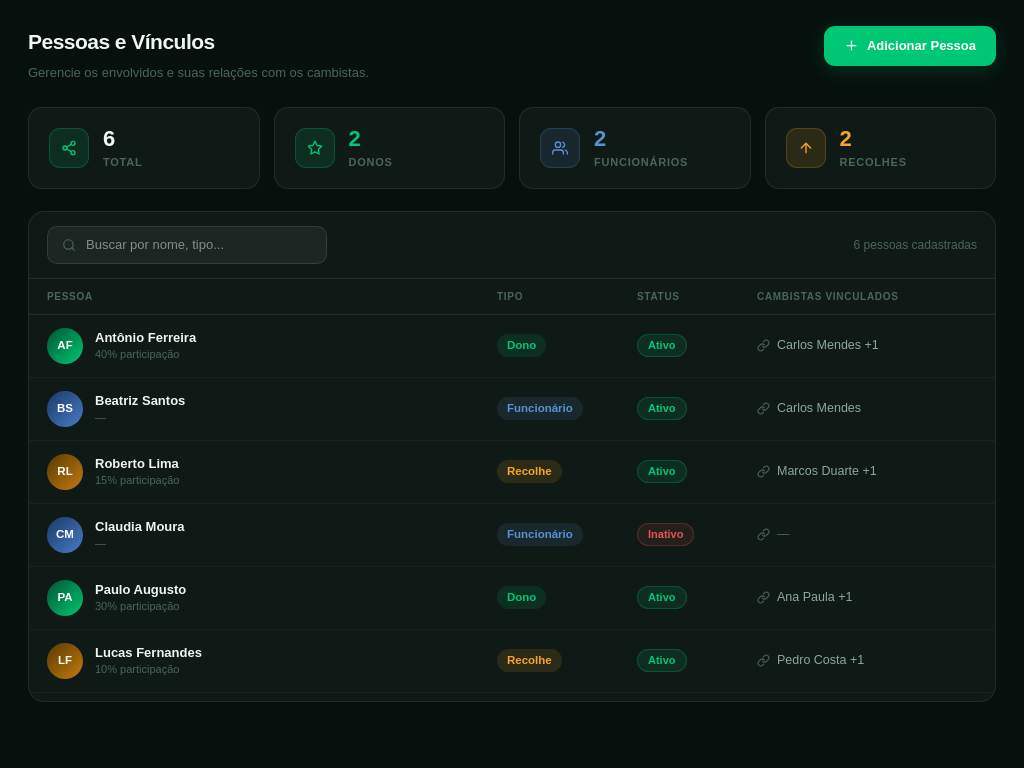
Scenario: PessoasPage › abre o drawer de adição em branco ao clicar em "Adicionar Pessoa"
The image size is (1024, 768).
Click the button "Adicionar Pessoa". click: click(910, 46)
box: [824,26,996,66]
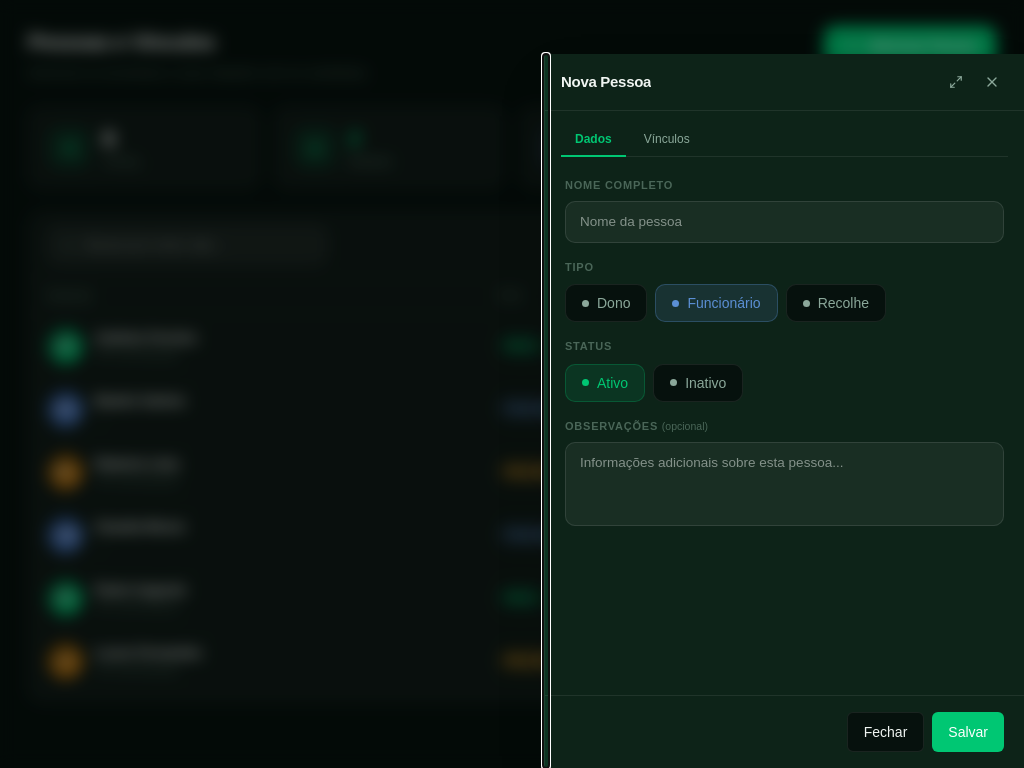
Check: the heading "Nova Pessoa" is shown, box [561,71,651,93]
